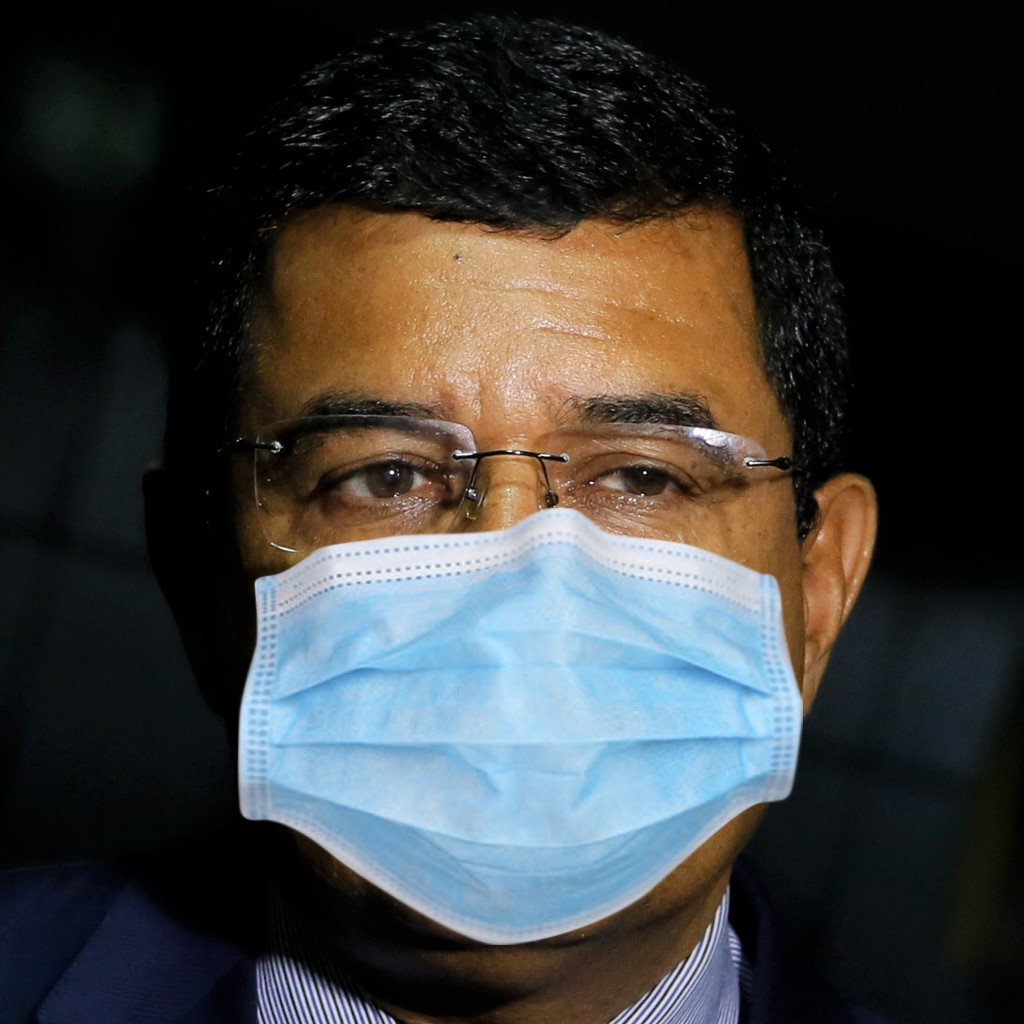con_mascara: (220, 147, 819, 926)
